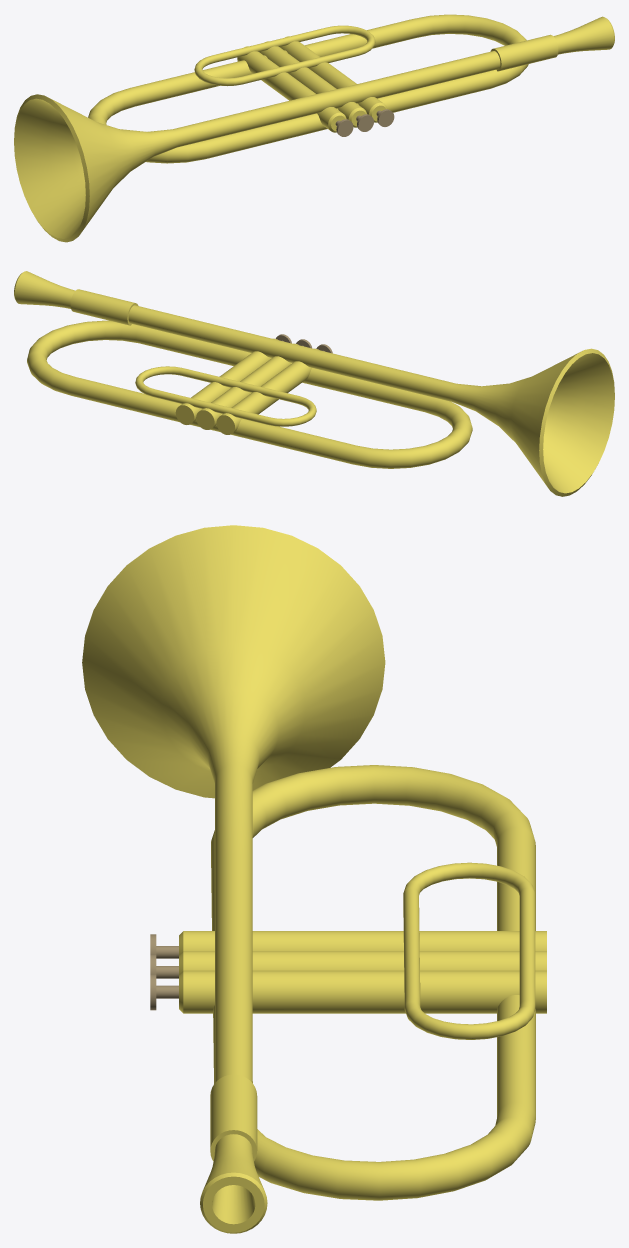
File: Trumpet_0.fbx
The picture shows the model from 3 angles, top to bottom: view 1: azimuth 30°, elevation 25°; view 2: azimuth 150°, elevation 25°; view 3: azimuth 270°, elevation 25°; orthographic projection. The views are drawn at different scales.
Parts seen in each view (by area): view 1: Cylinder.008; view 2: Cylinder.008; view 3: Cylinder.008.
Boxes of the visible parts, <box> form: Cylinder.008: <box>14,14,614,242</box>; Cylinder.008: <box>14,271,614,496</box>; Cylinder.008: <box>82,525,546,1233</box>.
Size of the model in its own units: 67.74 by 15.96 by 24.46.
